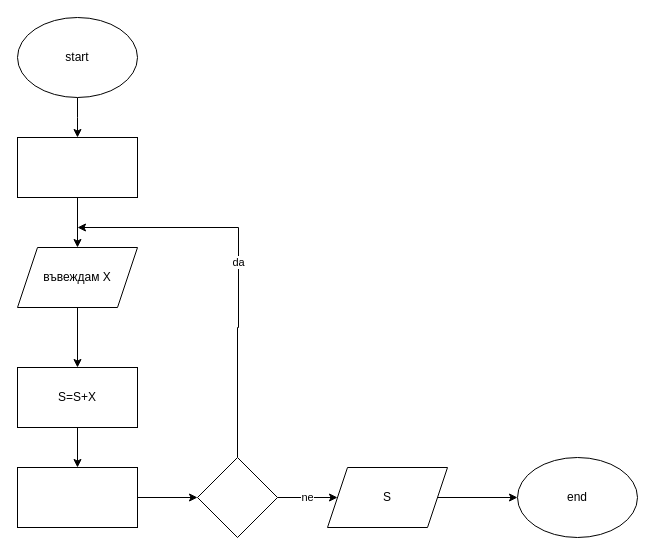
The diagram is 655 pixels wide and 555 high, and some of its shapes have lost their labels. Here are the shapes that lost their labels. From the top down, the box of each, then its label:
(16, 136, 138, 198): S=0, j=1
(16, 466, 138, 528): i= i+1
(196, 456, 278, 538): i<=10
